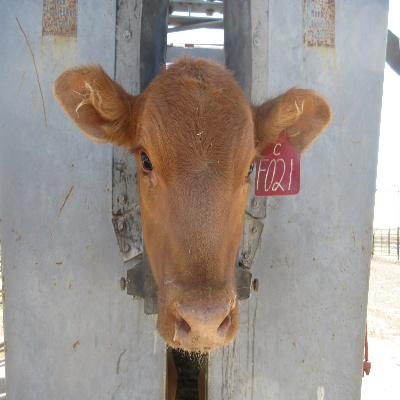fidget_spinner: (166, 298, 235, 350)
